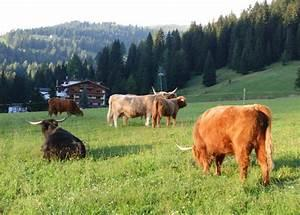cow: (175, 103, 274, 187), (27, 118, 86, 162), (47, 96, 83, 117)
